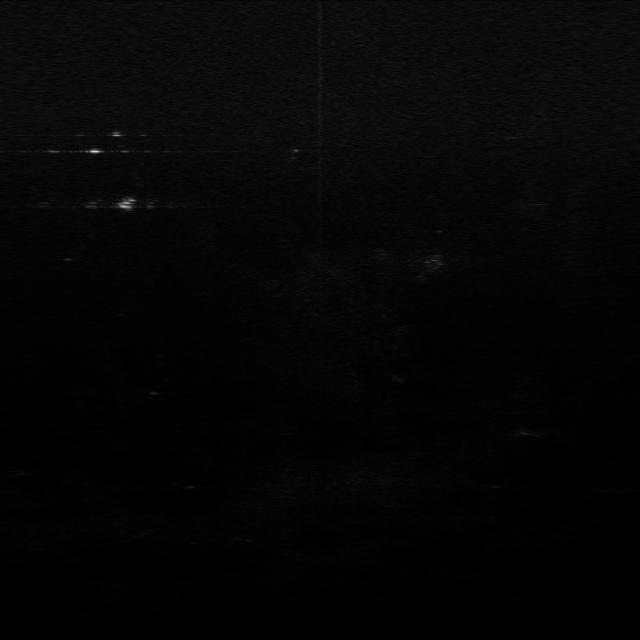rov: (108, 192, 148, 216)
